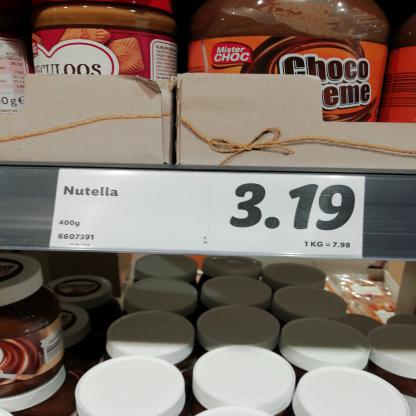prtg: (49, 169, 366, 260)
